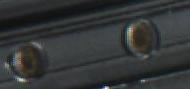joints: (4, 40, 49, 82), (120, 16, 162, 61)
